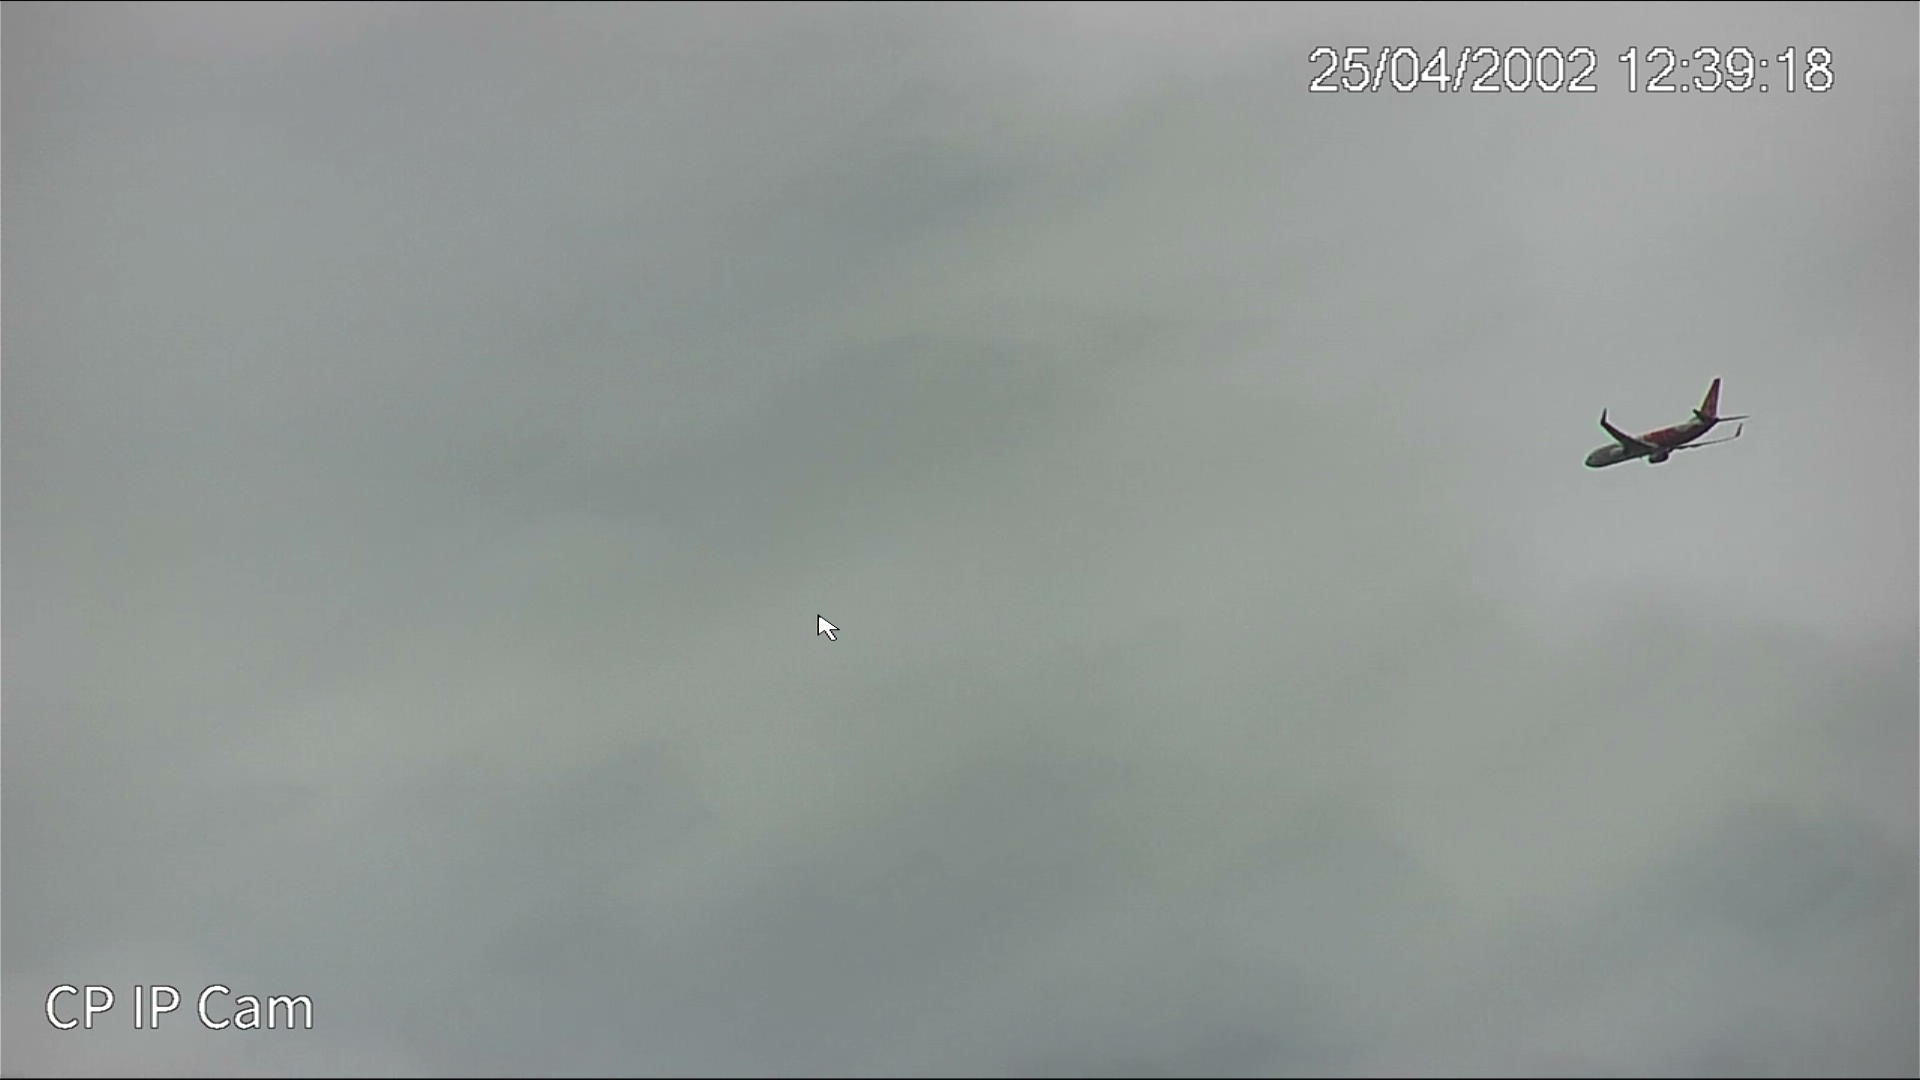SU_30: (1590, 381, 1750, 463)
